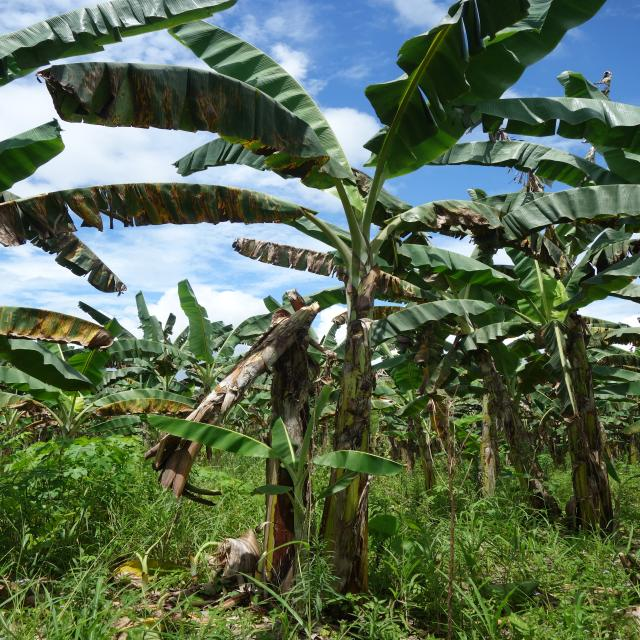Banana-plant: (308, 218, 381, 618), (543, 284, 621, 539)
